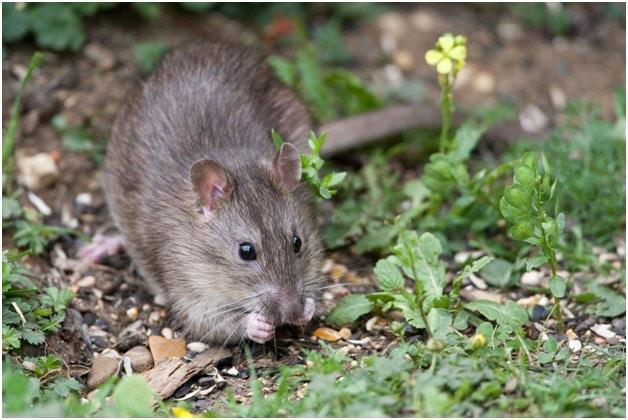rat: (106, 39, 324, 341)
